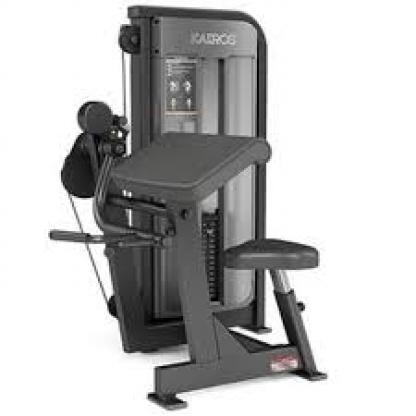arm curl machine: (53, 6, 329, 412)
